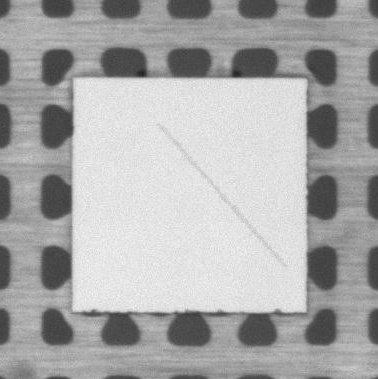DIE_CRACK: (159, 124, 284, 267)
